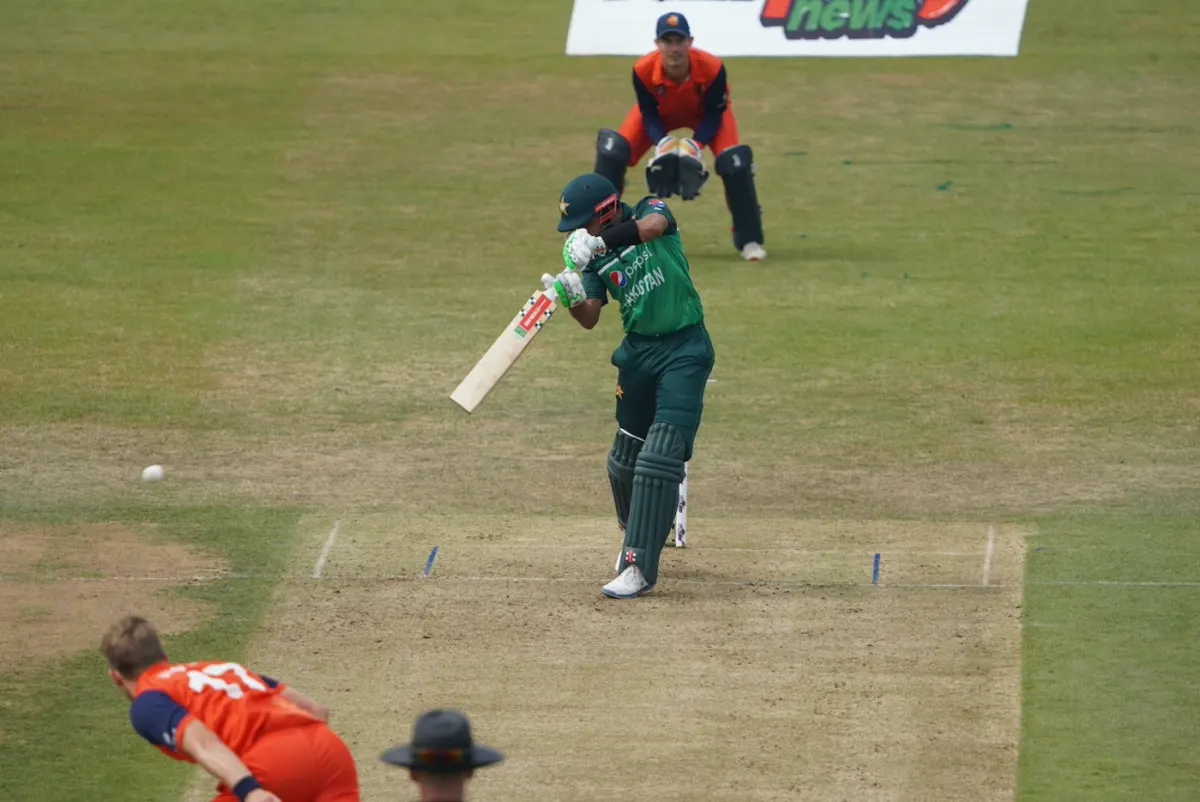Defence: (253, 5, 919, 664)
